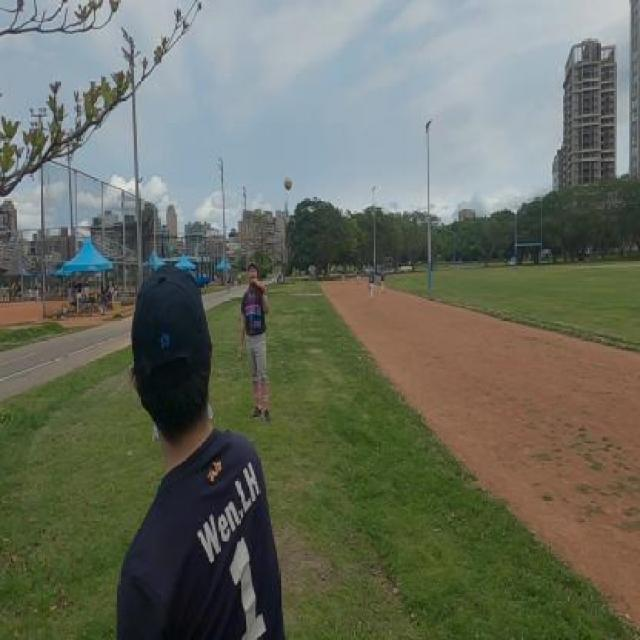baseball: (283, 176, 292, 192)
